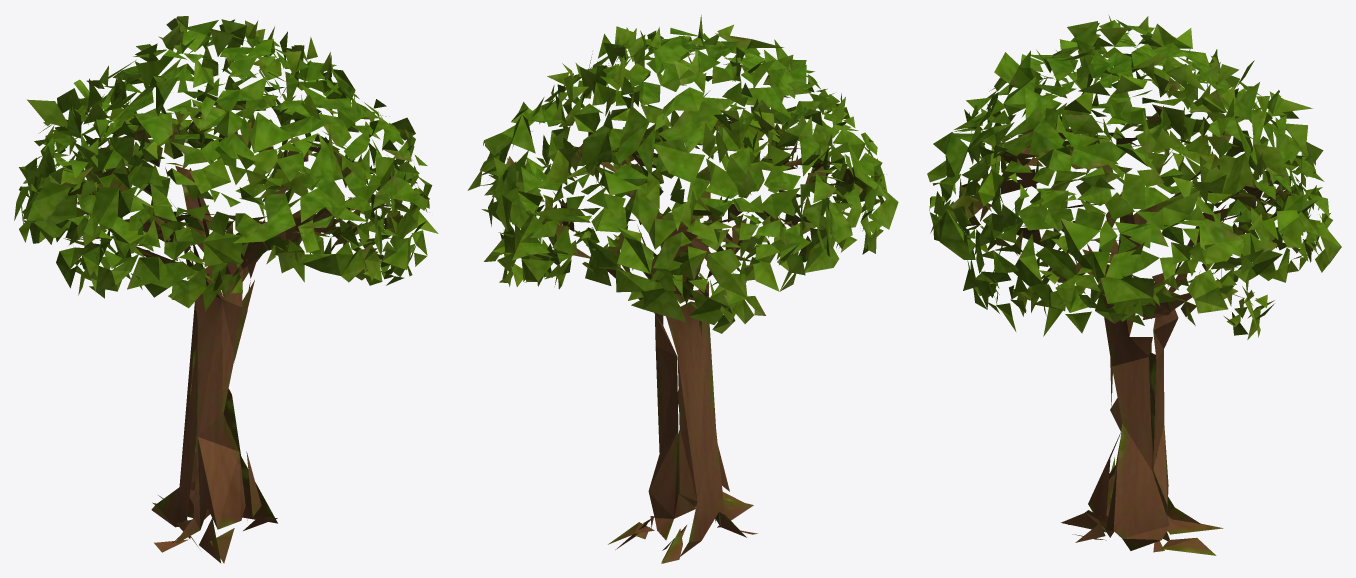
File: tree.glb
3 renders of one model, left to right at view 1: azimuth 30°, elevation 25°; view 2: azimuth 150°, elevation 25°; view 3: azimuth 270°, elevation 25°, orthographic. The views are drawn at different scales.
Visible parts, largest first — view 1: textured_mesh.obj; view 2: textured_mesh.obj; view 3: textured_mesh.obj.
Part boxes in pixels (bbox=[...]): textured_mesh.obj: bbox=[14, 16, 438, 563]; textured_mesh.obj: bbox=[467, 15, 898, 563]; textured_mesh.obj: bbox=[927, 15, 1341, 555].
Bounding box in the file's own units: 1.52 × 2 × 1.46.
Materials: 1 (1 with a texture image).
